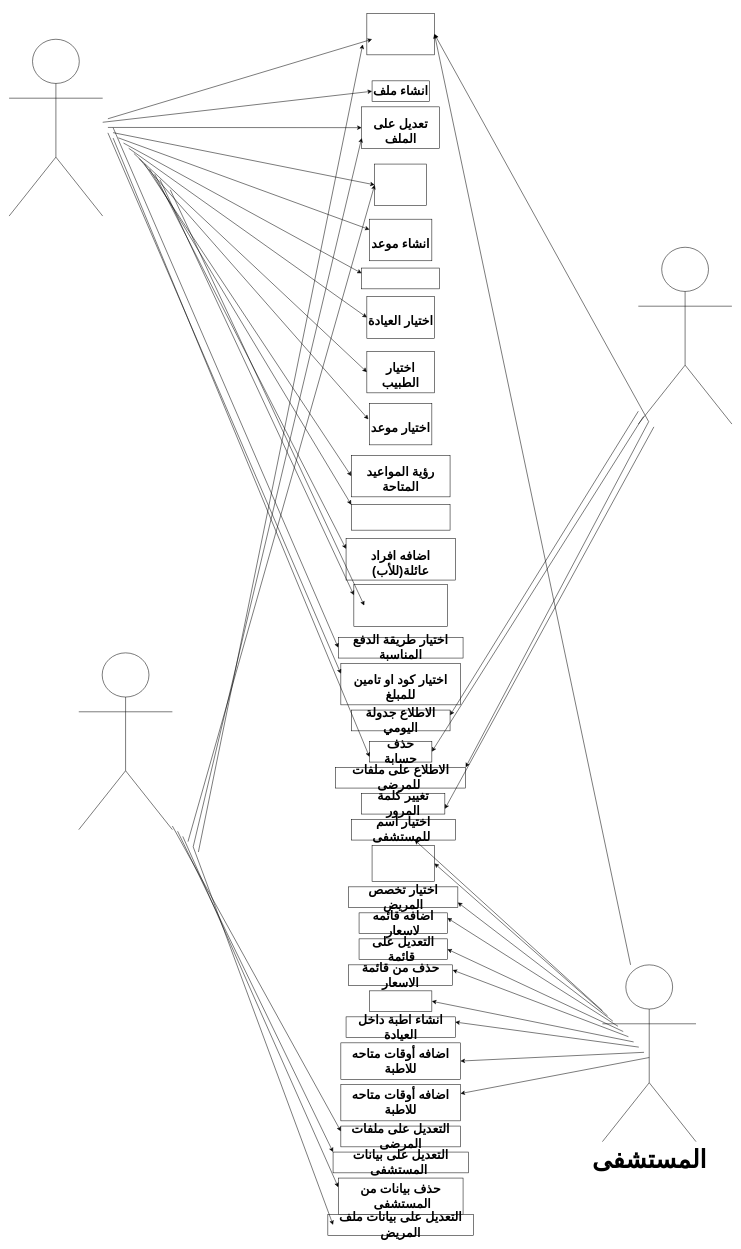
This 741x1249 diagram has some shape labels left out. Each missing label, with the centre of its shape:
"اختيار المستشفى" goes at (x=400, y=278).
"اضافه طبيب" goes at (x=403, y=863).
"الطبيب" goes at (x=685, y=335).
"المريض" goes at (x=56, y=127).
"انشاء عيادة" goes at (x=400, y=1001).
"تسجيل الدخول" goes at (x=400, y=34).
"حذف ملف" goes at (x=400, y=185).
"خدمة العملاء" goes at (x=125, y=741).
"رؤية اسعار العيادات" goes at (x=400, y=605).
"رؤية المواعيد السابقة" goes at (x=400, y=517).
